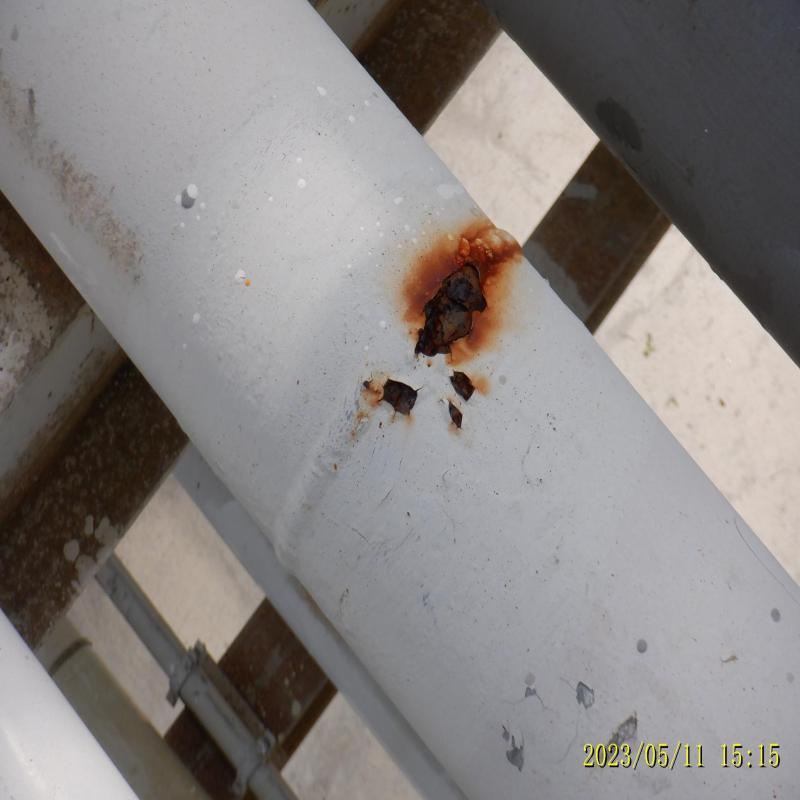Healthy: (189, 31, 340, 274), (557, 450, 736, 640)
corrosion: (410, 218, 520, 378)
